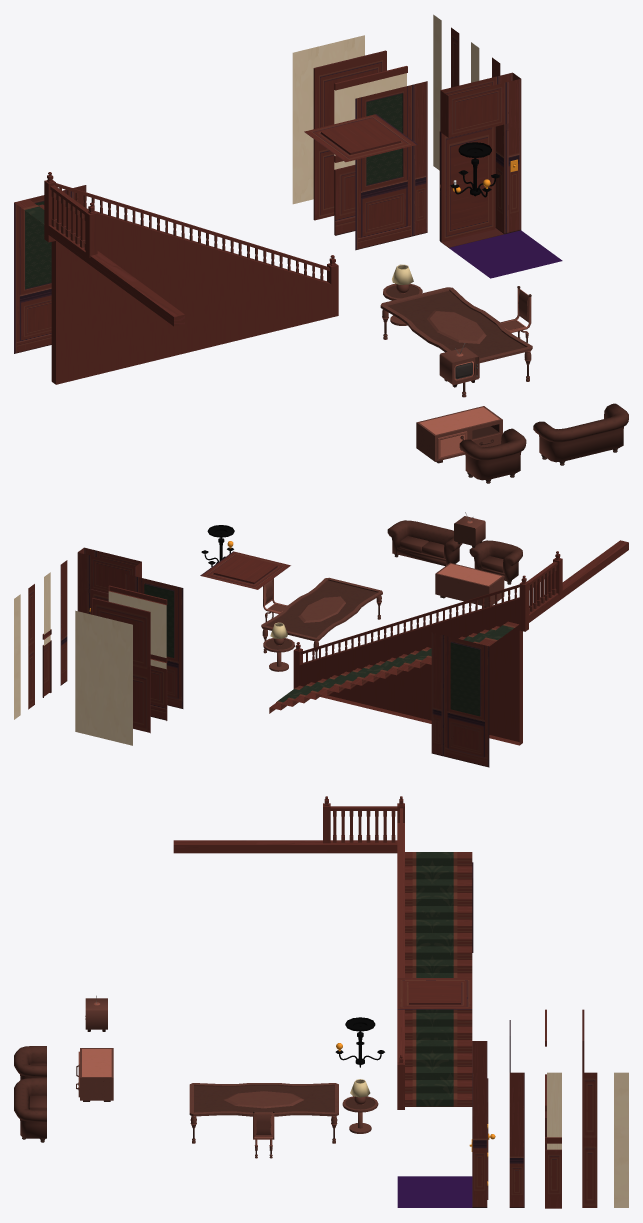
Rendered from Buil01.fbx.
The picture shows the model from 3 angles, top to bottom: view 1: azimuth 30°, elevation 25°; view 2: azimuth 150°, elevation 25°; view 3: azimuth 270°, elevation 25°; orthographic projection. The views are drawn at different scales.
Parts seen in each view (by area): view 1: Stairs_Ramp, Wall1, DoorFrame03, Table_Large01, Wall1.001, Door0, Wall0, WallLong0, Wall2, TV_Furniture, Sofa, Ground0 (+8 smaller); view 2: Stairs_Ramp, Wall1.001, Wall0, Table_Large01, WallLong0, Wall2, Wall1, Sofa, DoorFrame03, TV_Furniture, Ceiling03, Stairs_carpet (+12 smaller); view 3: Stairs_carpet, Stairs, Table_Large01, stairs_ground_ramp, DoorFrame03, Ground0, Ceiling03, Stairs_Ramp, WallAngle2, Wall_Angle1, WallLongAngle0, WallAngle0 (+8 smaller).
Boxes of the visible parts, x1,y1,x2,y2 form: Stairs_Ramp: (44,172,338,384); Wall1: (355,81,427,250); DoorFrame03: (440,72,521,247); Table_Large01: (380,287,532,397); Wall1.001: (14,185,86,353); Door0: (439,126,495,242); Wall0: (292,35,364,204); WallLong0: (313,50,386,220); Wall2: (334,66,407,235); TV_Furniture: (416,406,502,463); Sofa: (533,403,628,465); Ground0: (449,230,562,278); Stairs_Ramp: (293,575,528,745); Wall1.001: (431,632,489,767); Wall0: (75,610,132,745); Table_Large01: (261,577,382,658); WallLong0: (92,598,150,733); Wall2: (108,585,167,720); Wall1: (125,574,183,708); Sofa: (387,520,462,566); DoorFrame03: (77,547,141,614); TV_Furniture: (435,562,504,607); Ceiling03: (200,551,290,589); Stairs_carpet: (276,624,515,703); Stairs_carpet: (412,852,457,1106); Stairs: (405,852,472,1106); Table_Large01: (189,1083,338,1143); stairs_ground_ramp: (173,840,397,853); DoorFrame03: (472,1041,487,1207); Ground0: (397,1176,472,1207); Ceiling03: (397,978,472,1009); Stairs_Ramp: (397,796,404,1109); WallAngle2: (545,1072,561,1208); Wall_Angle1: (509,1072,524,1207); WallLongAngle0: (582,1072,597,1207); WallAngle0: (614,1072,628,1207).
Size of the model in its own units: 14.27 by 5.6 by 16.48.
